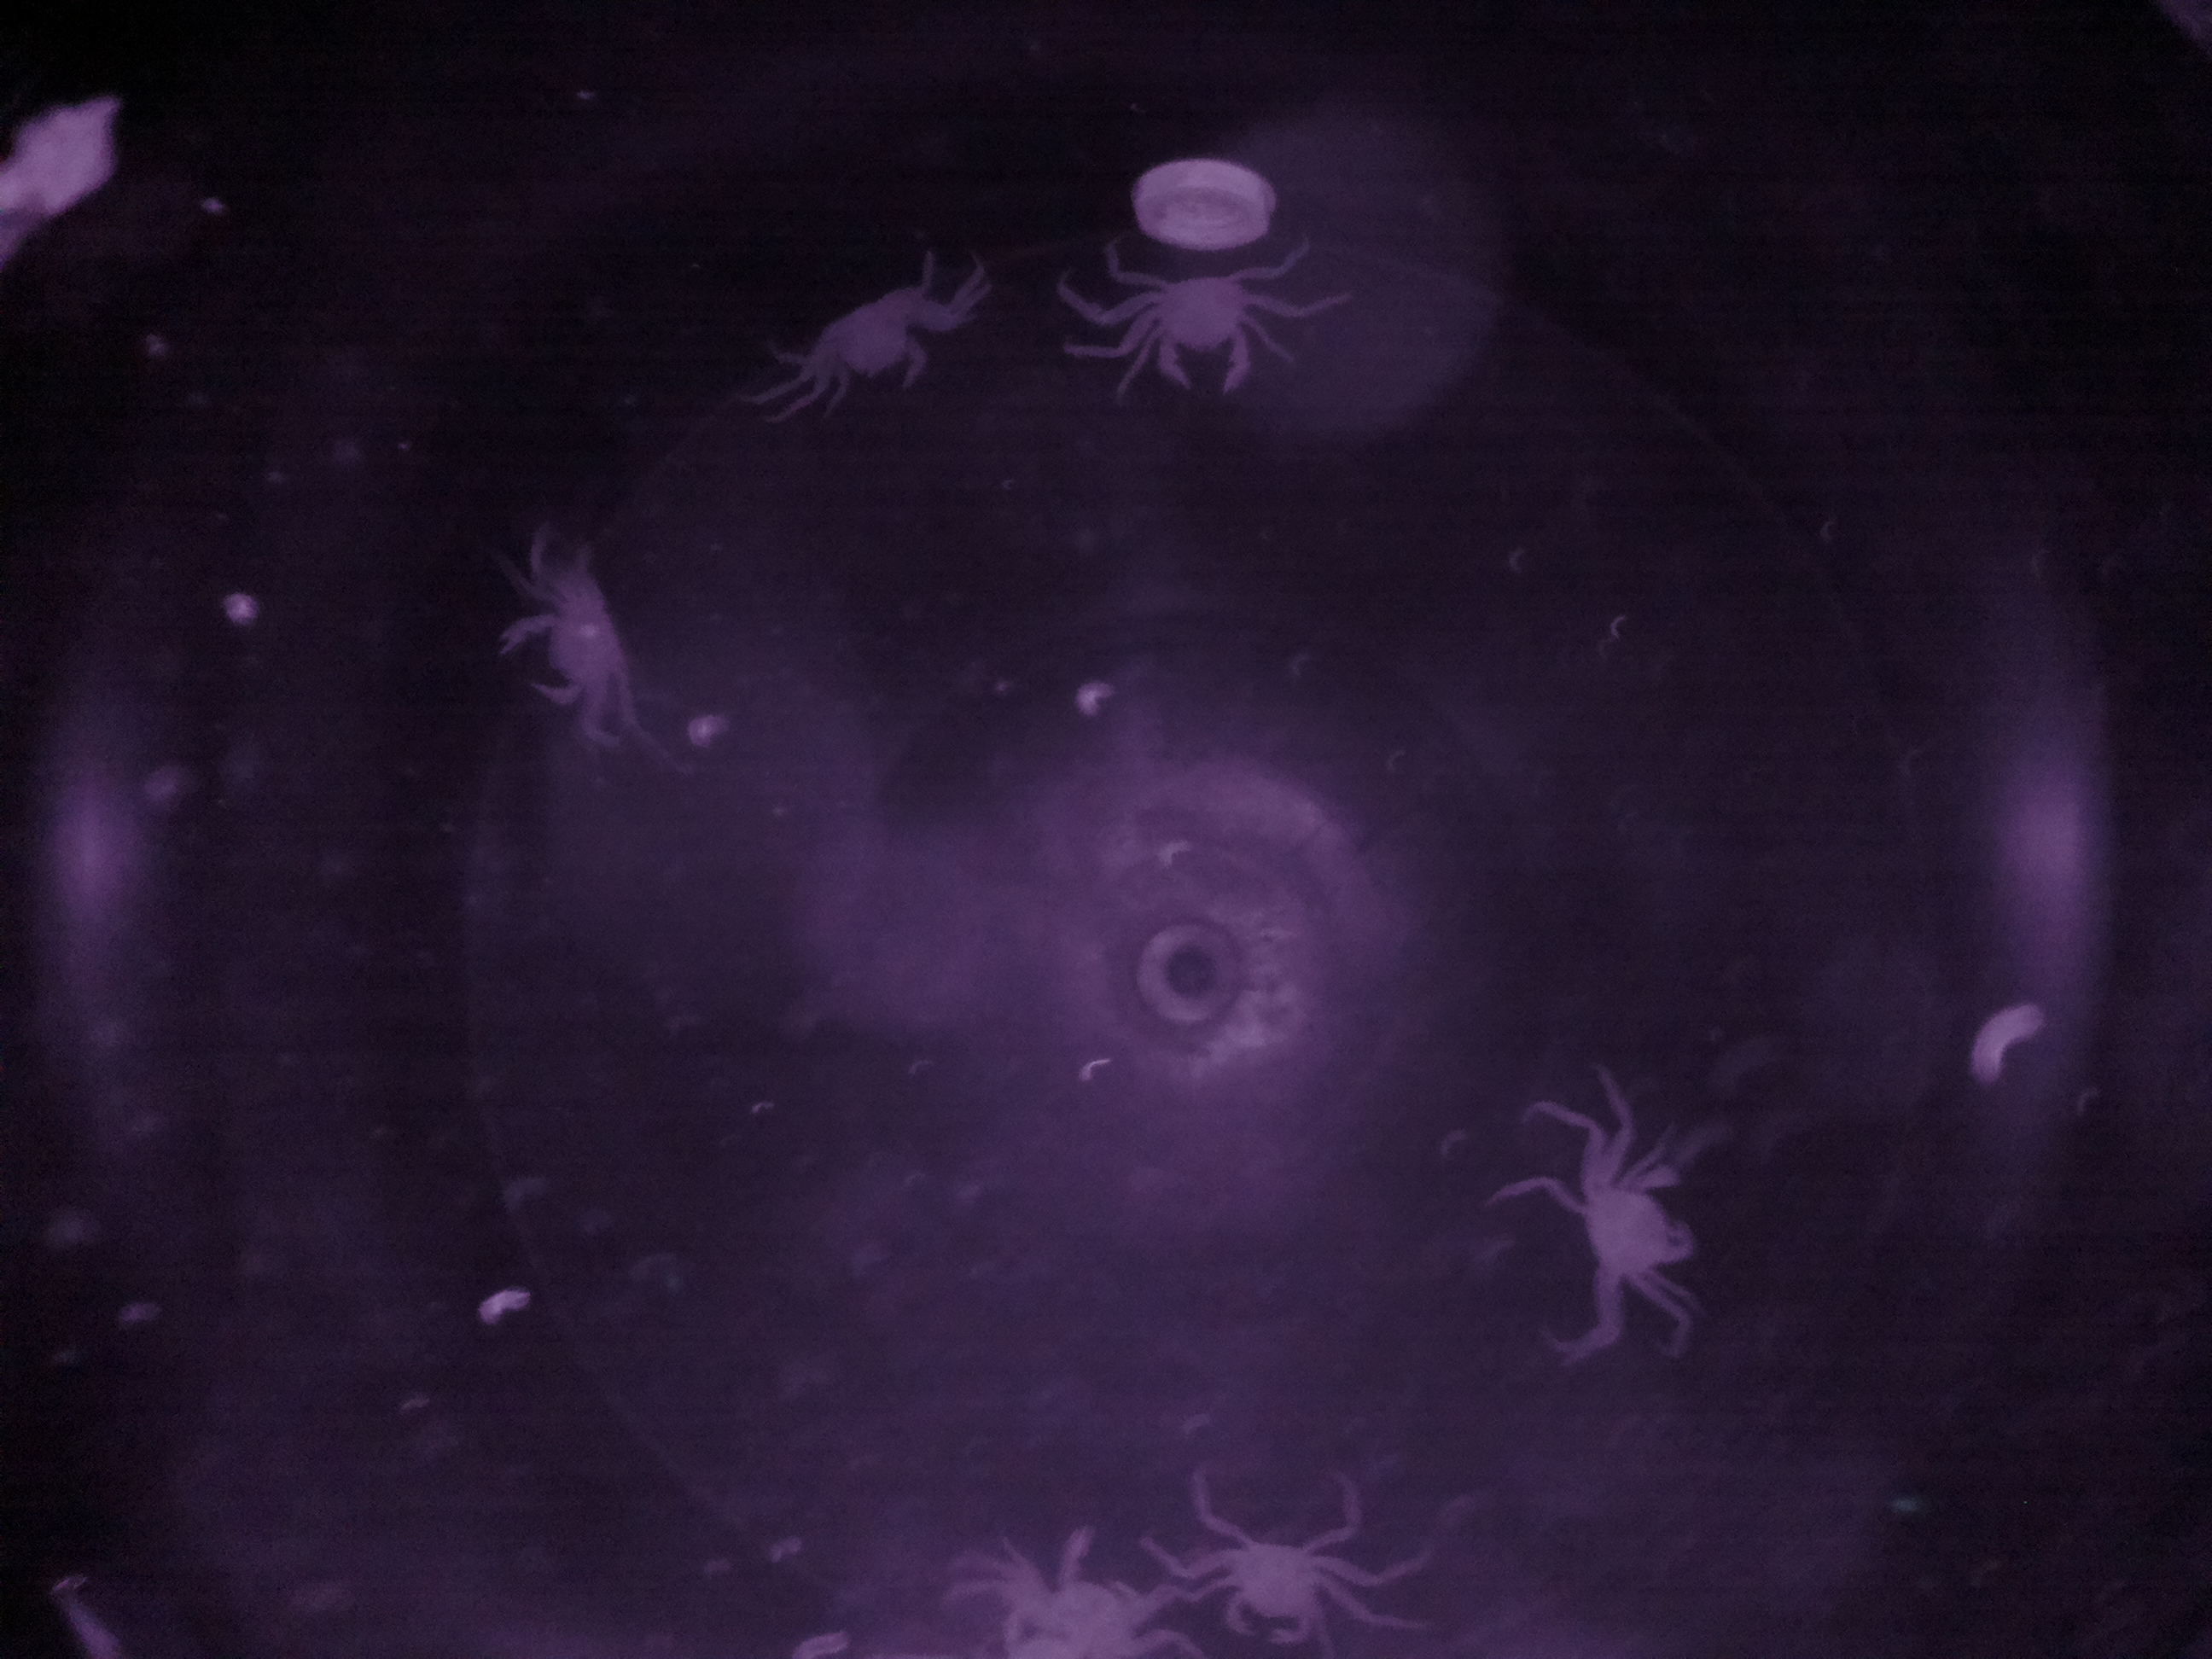Crab: (1090, 258, 1303, 420), (1569, 1108, 1716, 1344), (479, 554, 648, 746), (780, 263, 974, 418), (1193, 1507, 1359, 1649)
